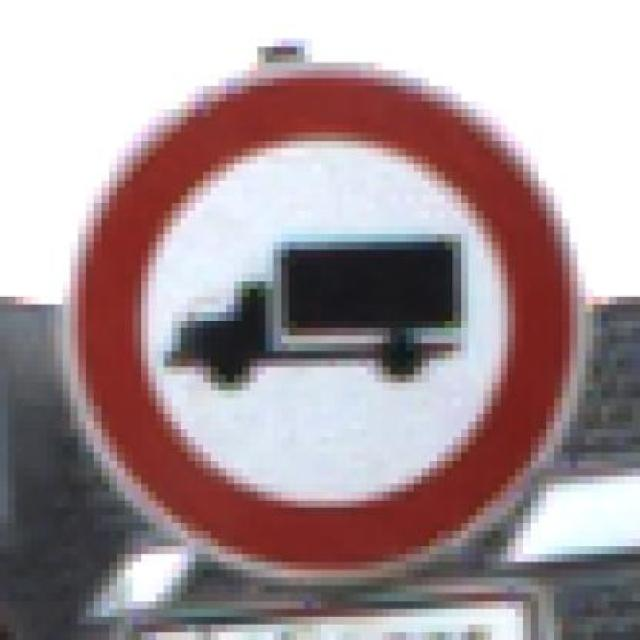Truck traffic is prohibited: (54, 62, 600, 601)
